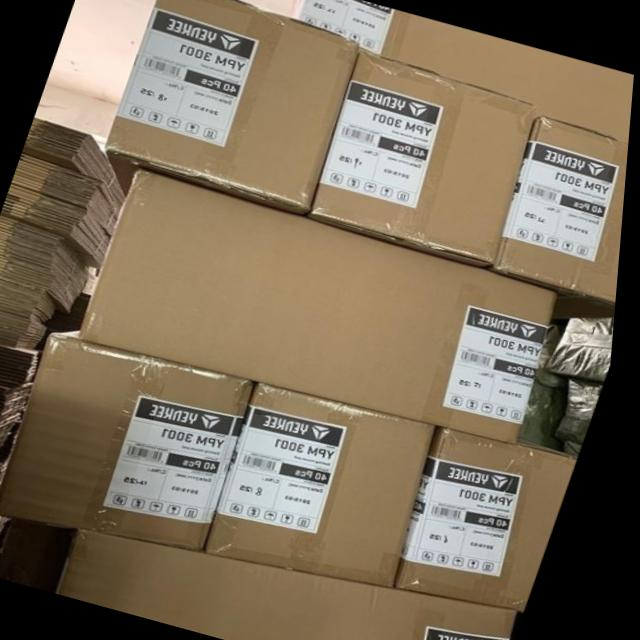box: (84, 170, 560, 442), (2, 331, 262, 551), (107, 0, 365, 217), (67, 529, 526, 640), (312, 49, 536, 272), (293, 0, 635, 143), (214, 383, 439, 586), (409, 425, 584, 609), (499, 116, 631, 304)
